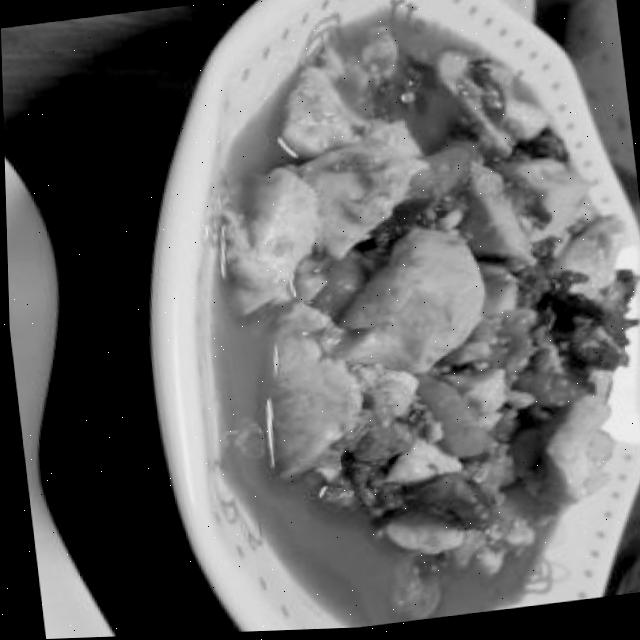豆腐料理: (96, 0, 640, 637)
